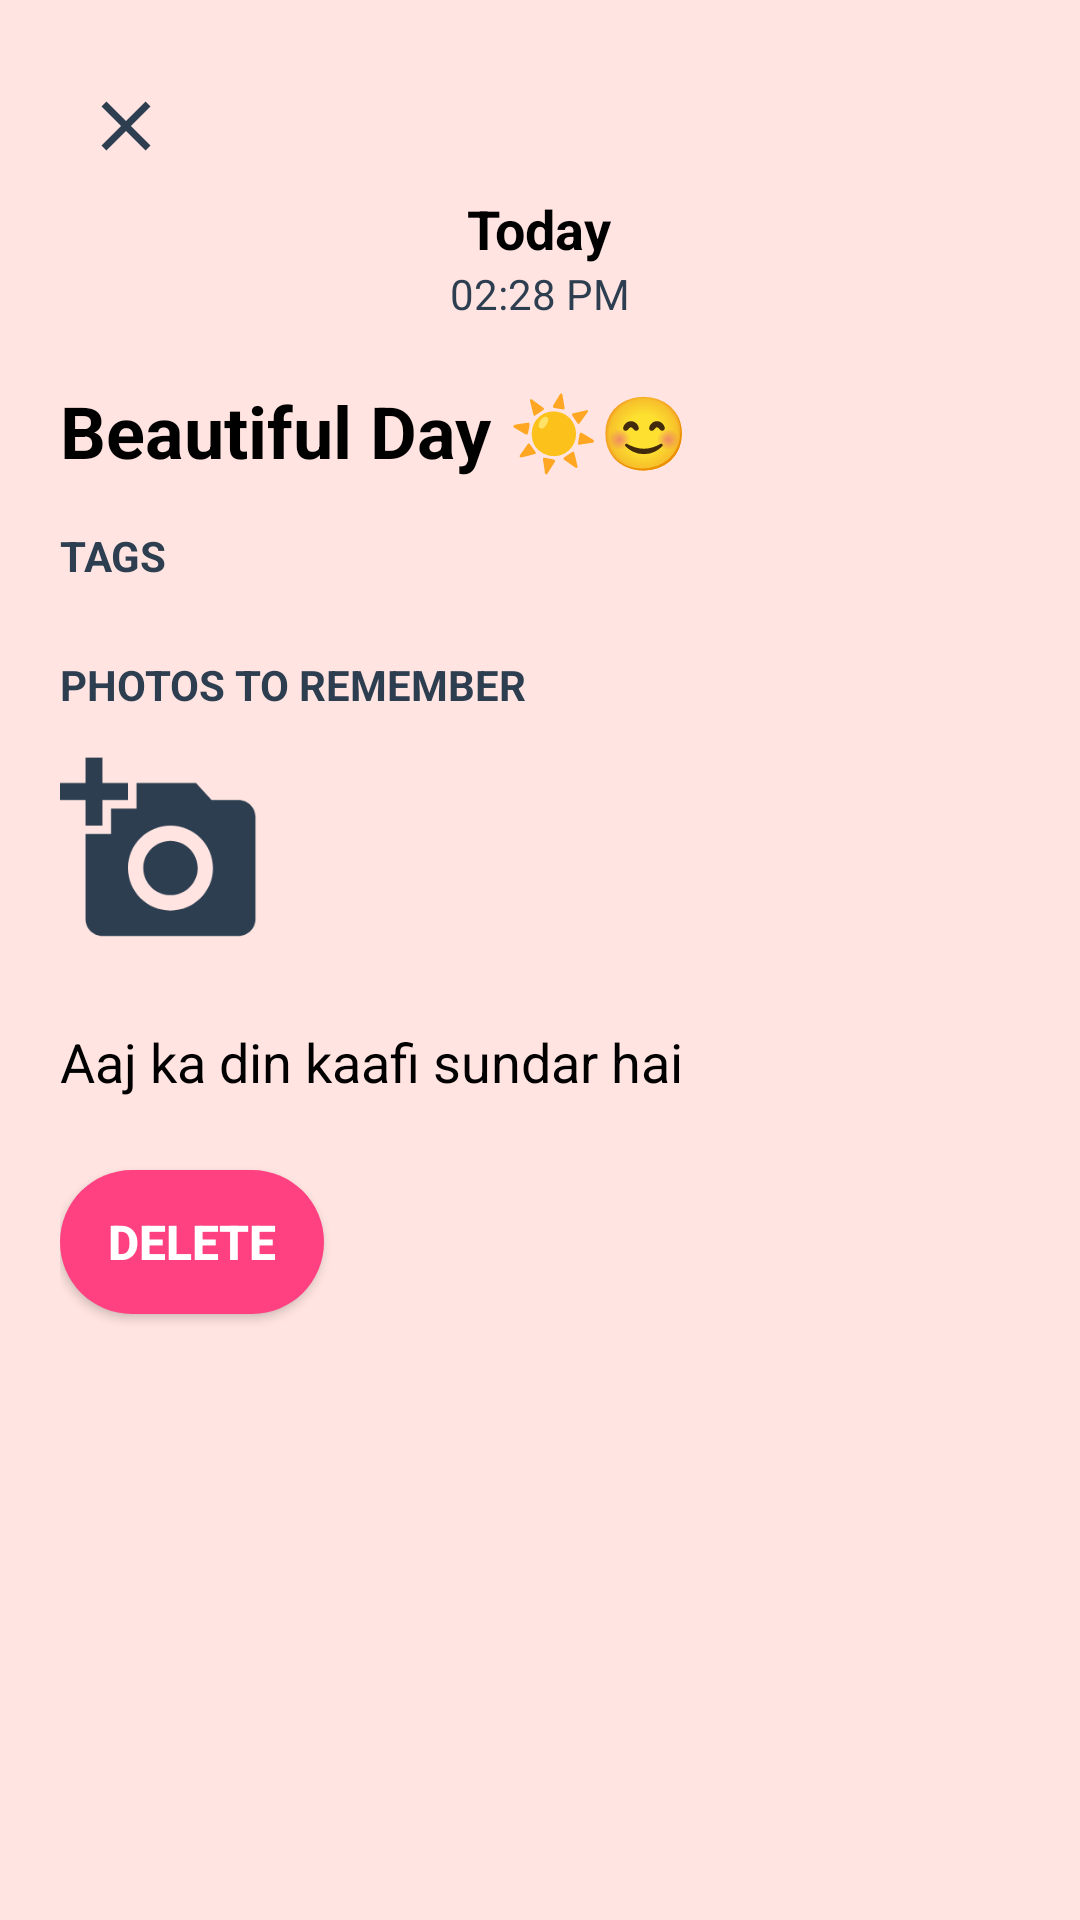

Screen size 1080×1920. Icon name, then its box in pixels as (x1, y1, x2, y2):
add photo: (60, 757, 256, 937)
close: (101, 101, 151, 151)
